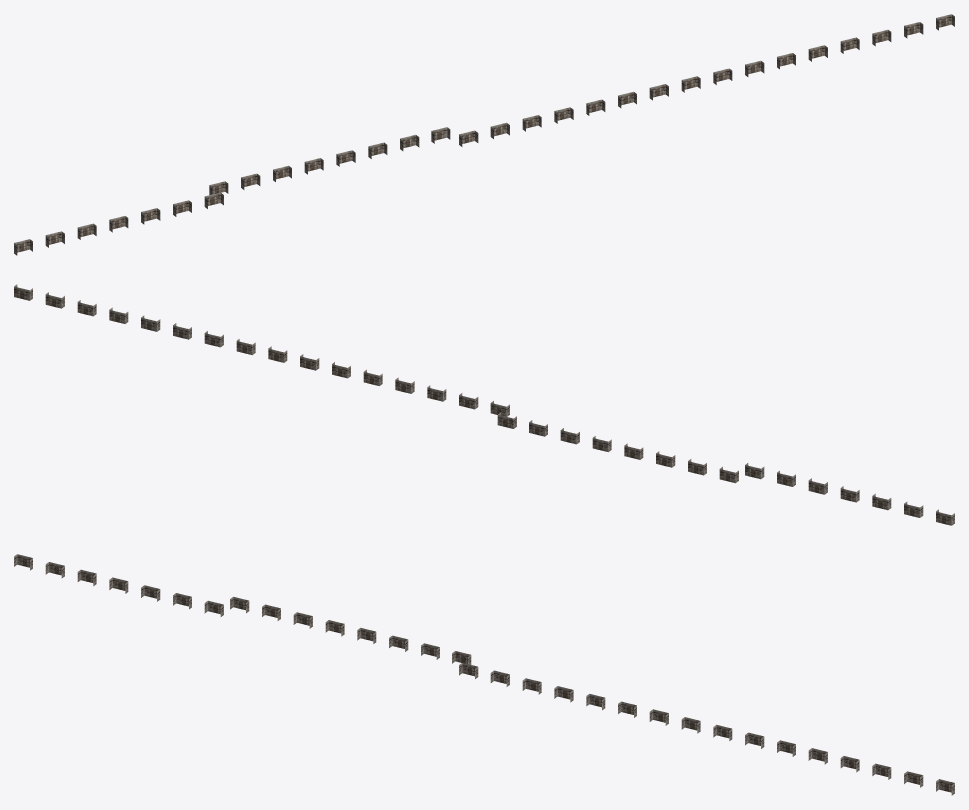
3 renders of one model, top to bottom at view 1: azimuth 30°, elevation 25°; view 2: azimuth 150°, elevation 25°; view 3: azimuth 330°, elevation 25°, orthographic.
Visible parts, largest first — view 1: Box158; view 2: Box158; view 3: Box158.
Boxes of the visible parts, x1,y1,x2,y2 form: Box158: (14, 14, 954, 255); Box158: (14, 284, 954, 525); Box158: (14, 554, 954, 795).
Bounding box in the file's own units: 1672 × 18 × 42.12.
